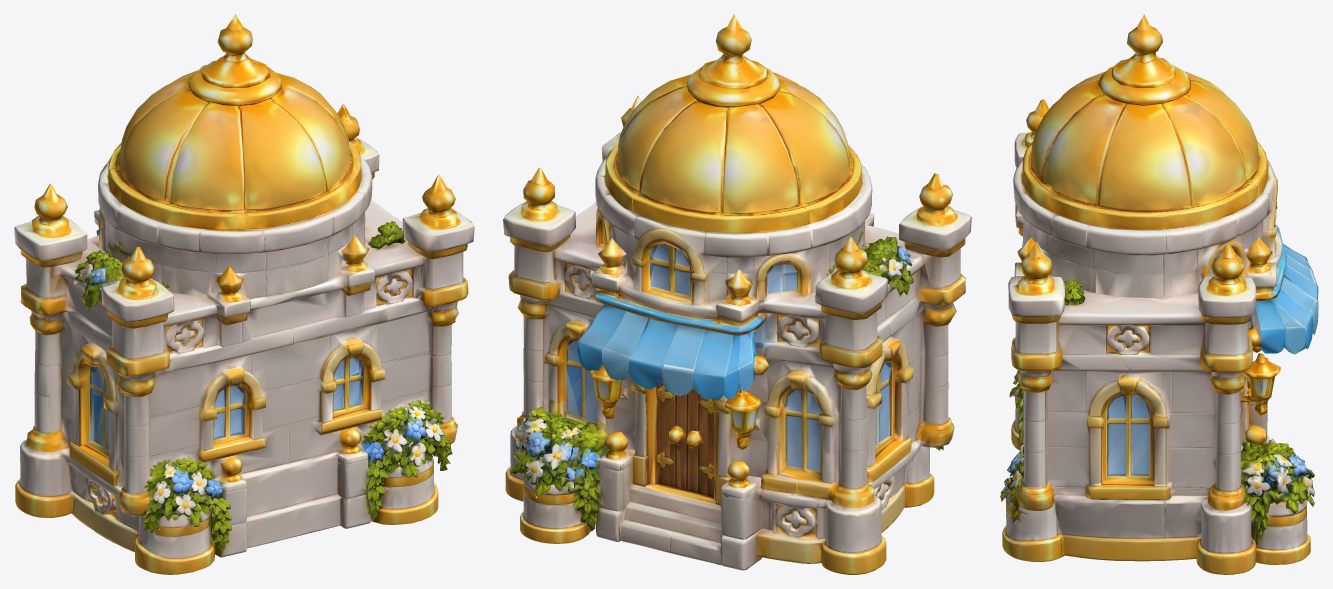
The model's file is HaloDomeHouse_02_parts.glb.
3 renders of one model, left to right at view 1: azimuth 30°, elevation 25°; view 2: azimuth 150°, elevation 25°; view 3: azimuth 270°, elevation 25°, orthographic.
Visible parts, largest first — view 1: HaloDomeHouse_02_Body_t00, HaloDomeHouse_02_Body_t10, HaloDomeHouse_02_Body_t01, HaloDomeHouse_02_Body_t11, HaloDomeHouse_02_Glass, HaloDomeHouse_02_WinPane; view 2: HaloDomeHouse_02_Body_t01, HaloDomeHouse_02_Body_t10, HaloDomeHouse_02_Body_t11, HaloDomeHouse_02_Body_t00, HaloDomeHouse_02_Awning, HaloDomeHouse_02_Glass, HaloDomeHouse_02_WinPane, HaloDomeHouse_02_Door, HaloDomeHouse_02_DoorHw; view 3: HaloDomeHouse_02_Body_t10, HaloDomeHouse_02_Body_t11, HaloDomeHouse_02_Body_t00, HaloDomeHouse_02_Body_t01, HaloDomeHouse_02_Awning, HaloDomeHouse_02_WinPane, HaloDomeHouse_02_Glass.
Boxes of the visible parts, <box> form: HaloDomeHouse_02_Body_t00: <box>21,77,473,571</box>; HaloDomeHouse_02_Body_t10: <box>38,14,442,560</box>; HaloDomeHouse_02_Body_t01: <box>18,71,474,573</box>; HaloDomeHouse_02_Body_t11: <box>14,72,468,574</box>; HaloDomeHouse_02_Glass: <box>88,357,363,489</box>; HaloDomeHouse_02_WinPane: <box>88,357,363,489</box>; HaloDomeHouse_02_Body_t01: <box>520,96,971,552</box>; HaloDomeHouse_02_Body_t10: <box>505,14,956,568</box>; HaloDomeHouse_02_Body_t11: <box>505,74,965,574</box>; HaloDomeHouse_02_Body_t00: <box>503,93,960,574</box>; HaloDomeHouse_02_Awning: <box>577,263,768,399</box>; HaloDomeHouse_02_Glass: <box>528,243,891,472</box>; HaloDomeHouse_02_WinPane: <box>528,242,891,470</box>; HaloDomeHouse_02_Door: <box>656,382,728,505</box>; HaloDomeHouse_02_DoorHw: <box>657,383,725,462</box>; HaloDomeHouse_02_Body_t10: <box>1002,14,1314,574</box>; HaloDomeHouse_02_Body_t11: <box>1000,86,1314,564</box>; HaloDomeHouse_02_Body_t00: <box>1002,132,1314,564</box>; HaloDomeHouse_02_Body_t01: <box>1000,71,1314,564</box>; HaloDomeHouse_02_Awning: <box>1244,209,1318,354</box>; HaloDomeHouse_02_WinPane: <box>1108,252,1305,480</box>; HaloDomeHouse_02_Glass: <box>1109,252,1305,483</box>.
Bounding box in the file's own units: 22.96 × 29.78 × 17.74.
9 materials, 8 textured.
